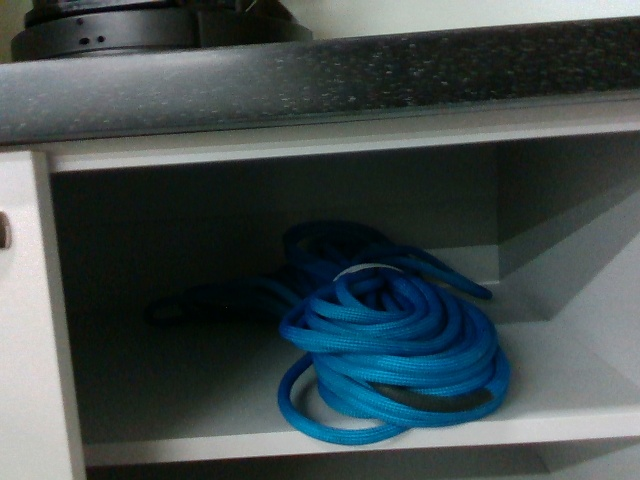rope: (275, 246, 510, 442)
